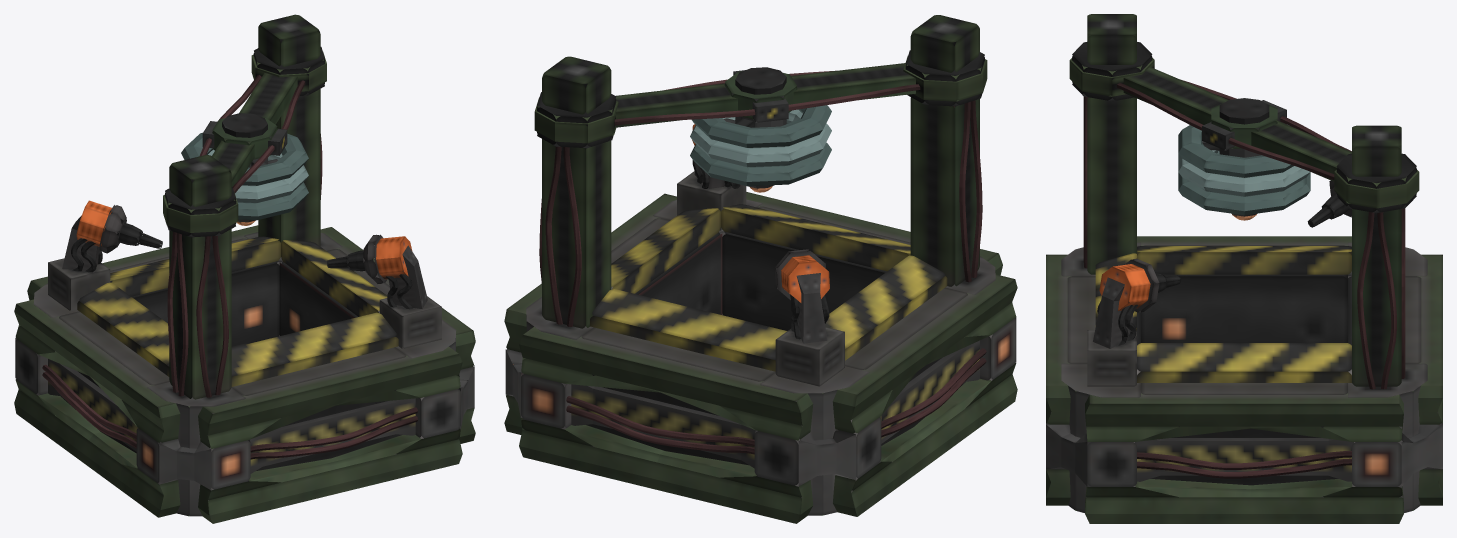
File: mes_frame_huge.obj
3 renders of one model, left to right at view 1: azimuth 30°, elevation 25°; view 2: azimuth 150°, elevation 25°; view 3: azimuth 270°, elevation 25°, orthographic. The views are drawn at different scales.
Parts seen in each view (by area): view 1: 19, 18, 24, 38, 61, 25, 65, 60, 66, 32, 67, 36 (+41 smaller); view 2: 21, 20, 38, 60, 61, 24, 25, 64, 43, 65, 66, 33 (+38 smaller); view 3: 23, 38, 22, 67, 61, 60, 66, 34, 43, 29, 21, 19 (+37 smaller).
Part boxes in pixels (x1,y1,x2,y2): 19: [198, 347, 462, 448]; 18: [198, 428, 462, 523]; 24: [14, 299, 189, 442]; 38: [133, 263, 354, 347]; 61: [169, 229, 231, 399]; 25: [14, 379, 180, 517]; 65: [231, 312, 398, 386]; 60: [258, 89, 320, 246]; 66: [77, 282, 169, 376]; 32: [250, 398, 415, 473]; 67: [281, 240, 387, 316]; 36: [231, 347, 406, 481]; 21: [519, 327, 813, 440]; 20: [519, 418, 813, 523]; 38: [638, 233, 884, 330]; 60: [542, 139, 611, 328]; 61: [910, 97, 979, 286]; 24: [822, 274, 1017, 433]; 25: [833, 363, 1017, 516]; 64: [590, 289, 786, 371]; 43: [614, 63, 915, 127]; 65: [721, 204, 910, 271]; 66: [825, 255, 947, 360]; 33: [571, 384, 755, 468]; 23: [1085, 393, 1403, 441]; 38: [1141, 276, 1347, 342]; 22: [1085, 479, 1403, 523]; 67: [1137, 343, 1351, 382]; 61: [1087, 97, 1136, 274]; 60: [1352, 209, 1401, 386]; 66: [1137, 246, 1351, 274]; 34: [1135, 438, 1353, 481]; 43: [1123, 67, 1351, 181]; 29: [1141, 383, 1347, 497]; 21: [1412, 254, 1442, 424]; 19: [1046, 254, 1076, 424].
Size of the model in its own units: 3 by 3 by 3.
